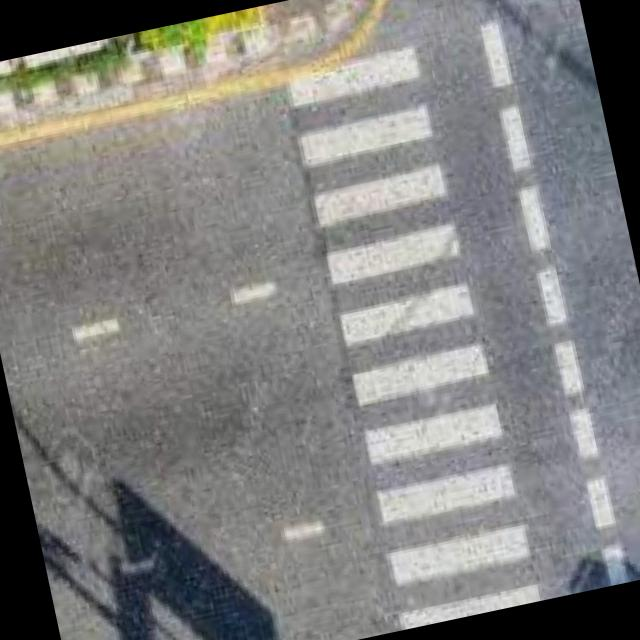zebra: (282, 38, 545, 630)
